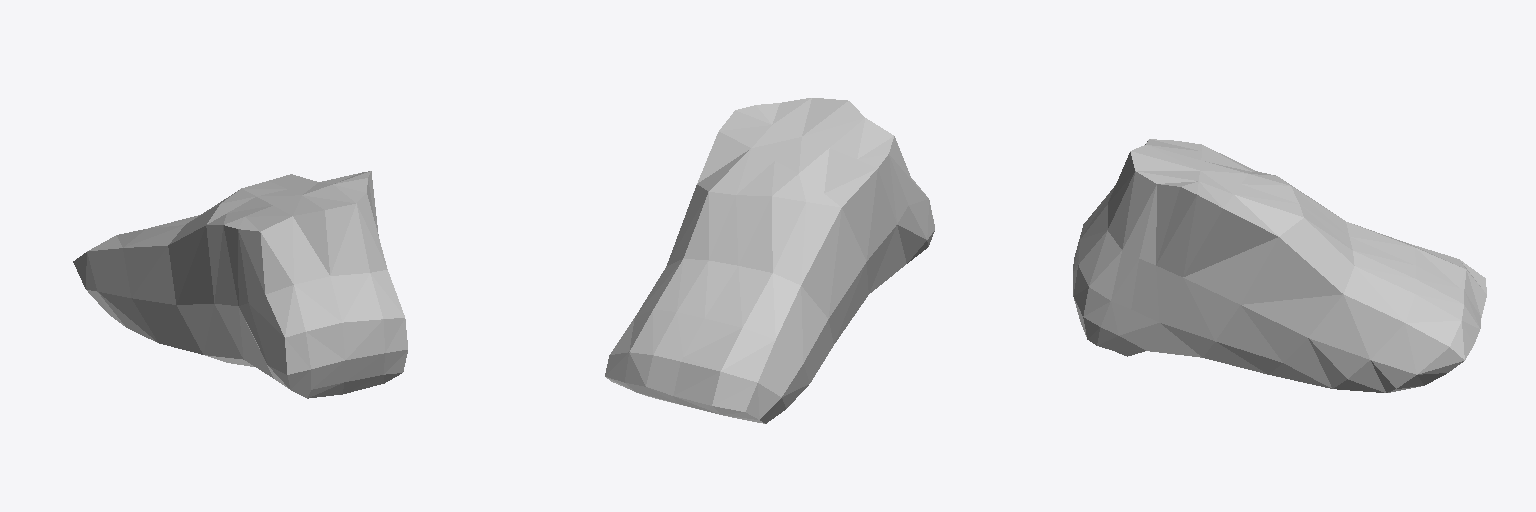
The model's file is feetv1right.obj.
3 views of the same model, side by side, from view 1: azimuth 30°, elevation 25°; view 2: azimuth 150°, elevation 25°; view 3: azimuth 270°, elevation 25° (orthographic).
Visible parts, largest first — view 1: Mesh; view 2: Mesh; view 3: Mesh.
Boxes of the visible parts, x1=… form: Mesh: x1=73, y1=171, x2=407, y2=398; Mesh: x1=605, y1=98, x2=934, y2=423; Mesh: x1=1073, y1=139, x2=1486, y2=392.
Bounding box in the file's own units: 1.3 × 1.48 × 2.72.